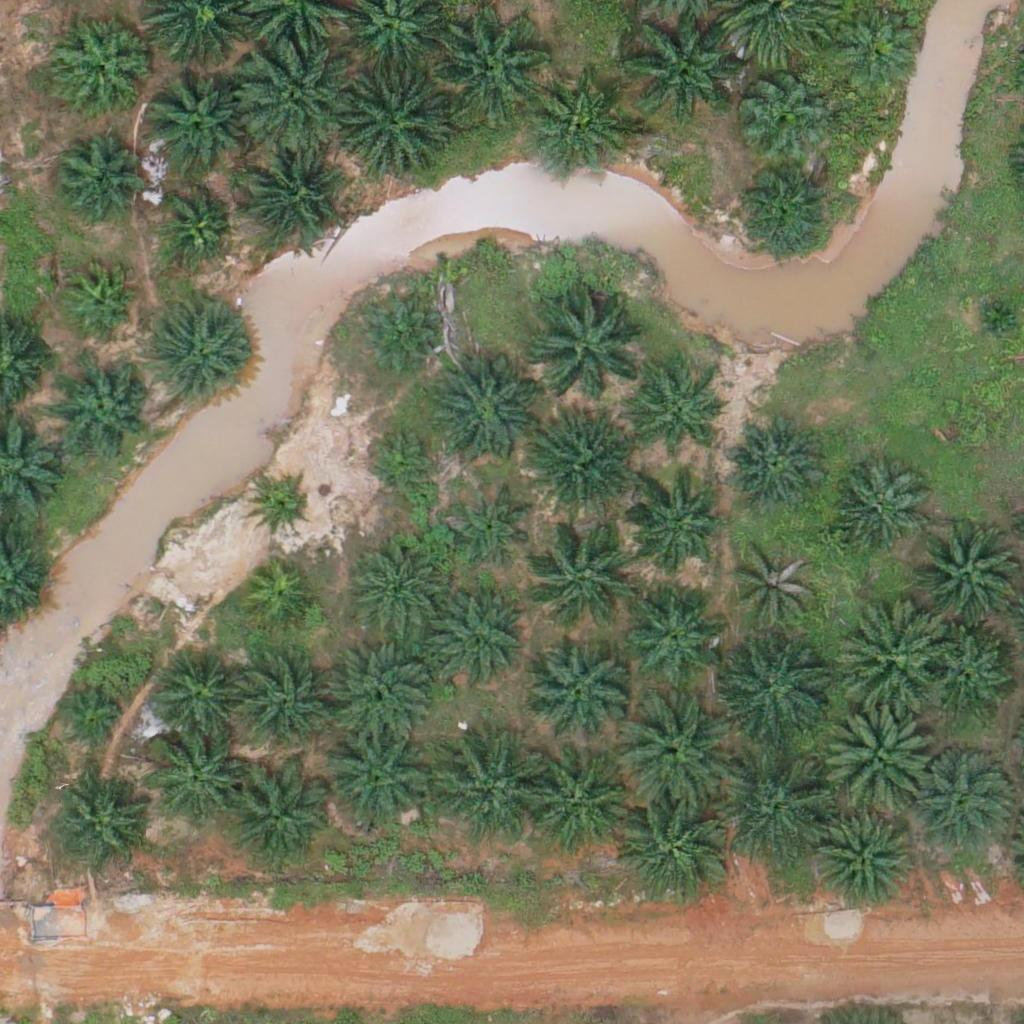Kelapa_Sawit: (334, 66, 447, 180), (618, 794, 731, 907), (531, 284, 644, 397), (425, 357, 538, 470), (323, 635, 436, 748), (320, 723, 433, 836), (222, 762, 335, 875), (530, 515, 642, 629), (428, 732, 540, 846), (911, 517, 1023, 630), (834, 600, 946, 713), (821, 698, 933, 811), (723, 753, 835, 866), (719, 632, 831, 745), (623, 8, 735, 121), (617, 694, 729, 807), (518, 751, 630, 864), (521, 412, 633, 525), (434, 8, 546, 121), (242, 41, 354, 154), (913, 747, 1013, 848), (827, 458, 927, 559), (623, 478, 723, 579), (525, 640, 625, 741), (142, 71, 242, 172), (425, 591, 525, 692), (233, 657, 333, 758), (148, 648, 248, 749), (50, 774, 150, 875), (812, 810, 912, 910), (733, 160, 833, 260), (724, 413, 824, 513), (623, 582, 723, 682), (530, 81, 630, 181), (240, 146, 340, 246), (150, 306, 250, 406), (348, 539, 448, 639), (143, 728, 243, 828), (53, 14, 153, 114), (56, 359, 156, 459), (923, 631, 1011, 719), (737, 67, 825, 155), (448, 485, 536, 573), (353, 293, 441, 381), (50, 131, 138, 219), (834, 2, 922, 90), (733, 544, 820, 632), (635, 374, 722, 462), (62, 262, 137, 338), (157, 188, 232, 263), (365, 424, 440, 499), (241, 562, 316, 637), (56, 686, 131, 761), (250, 475, 313, 538), (970, 290, 1020, 341)
